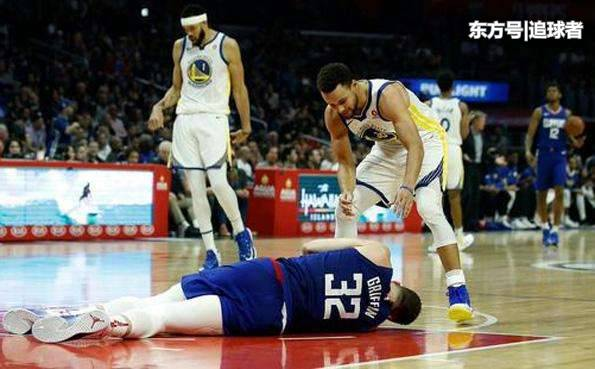10+: (1, 1, 592, 355)
down: (1, 231, 432, 347)
